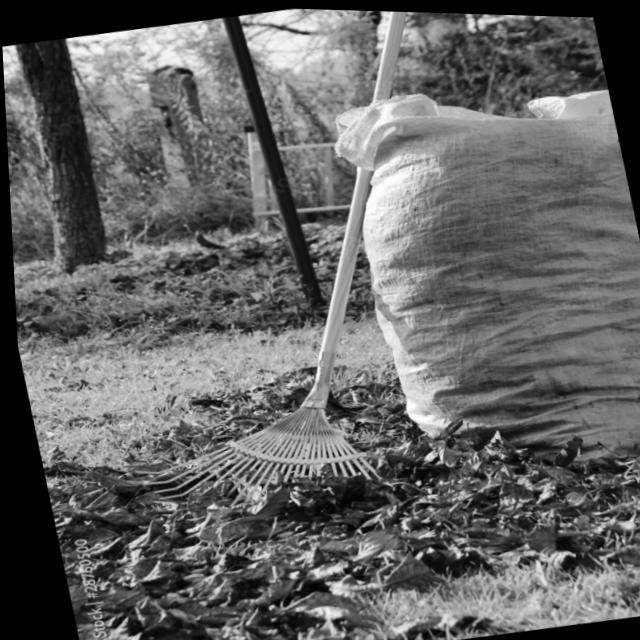sack: (320, 57, 640, 491)
